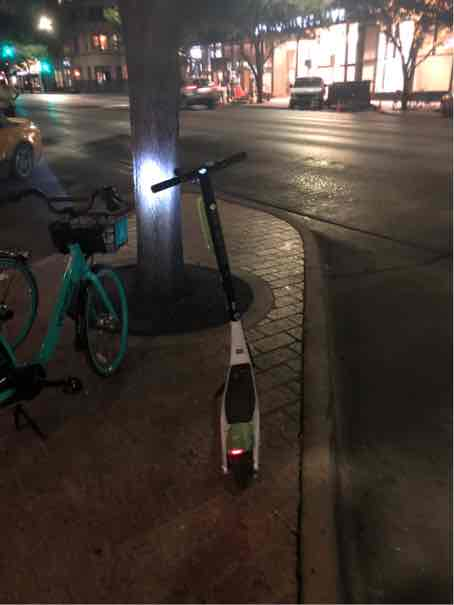scooter: (153, 148, 276, 487)
